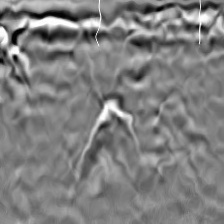Utility: (73, 92, 146, 183)
